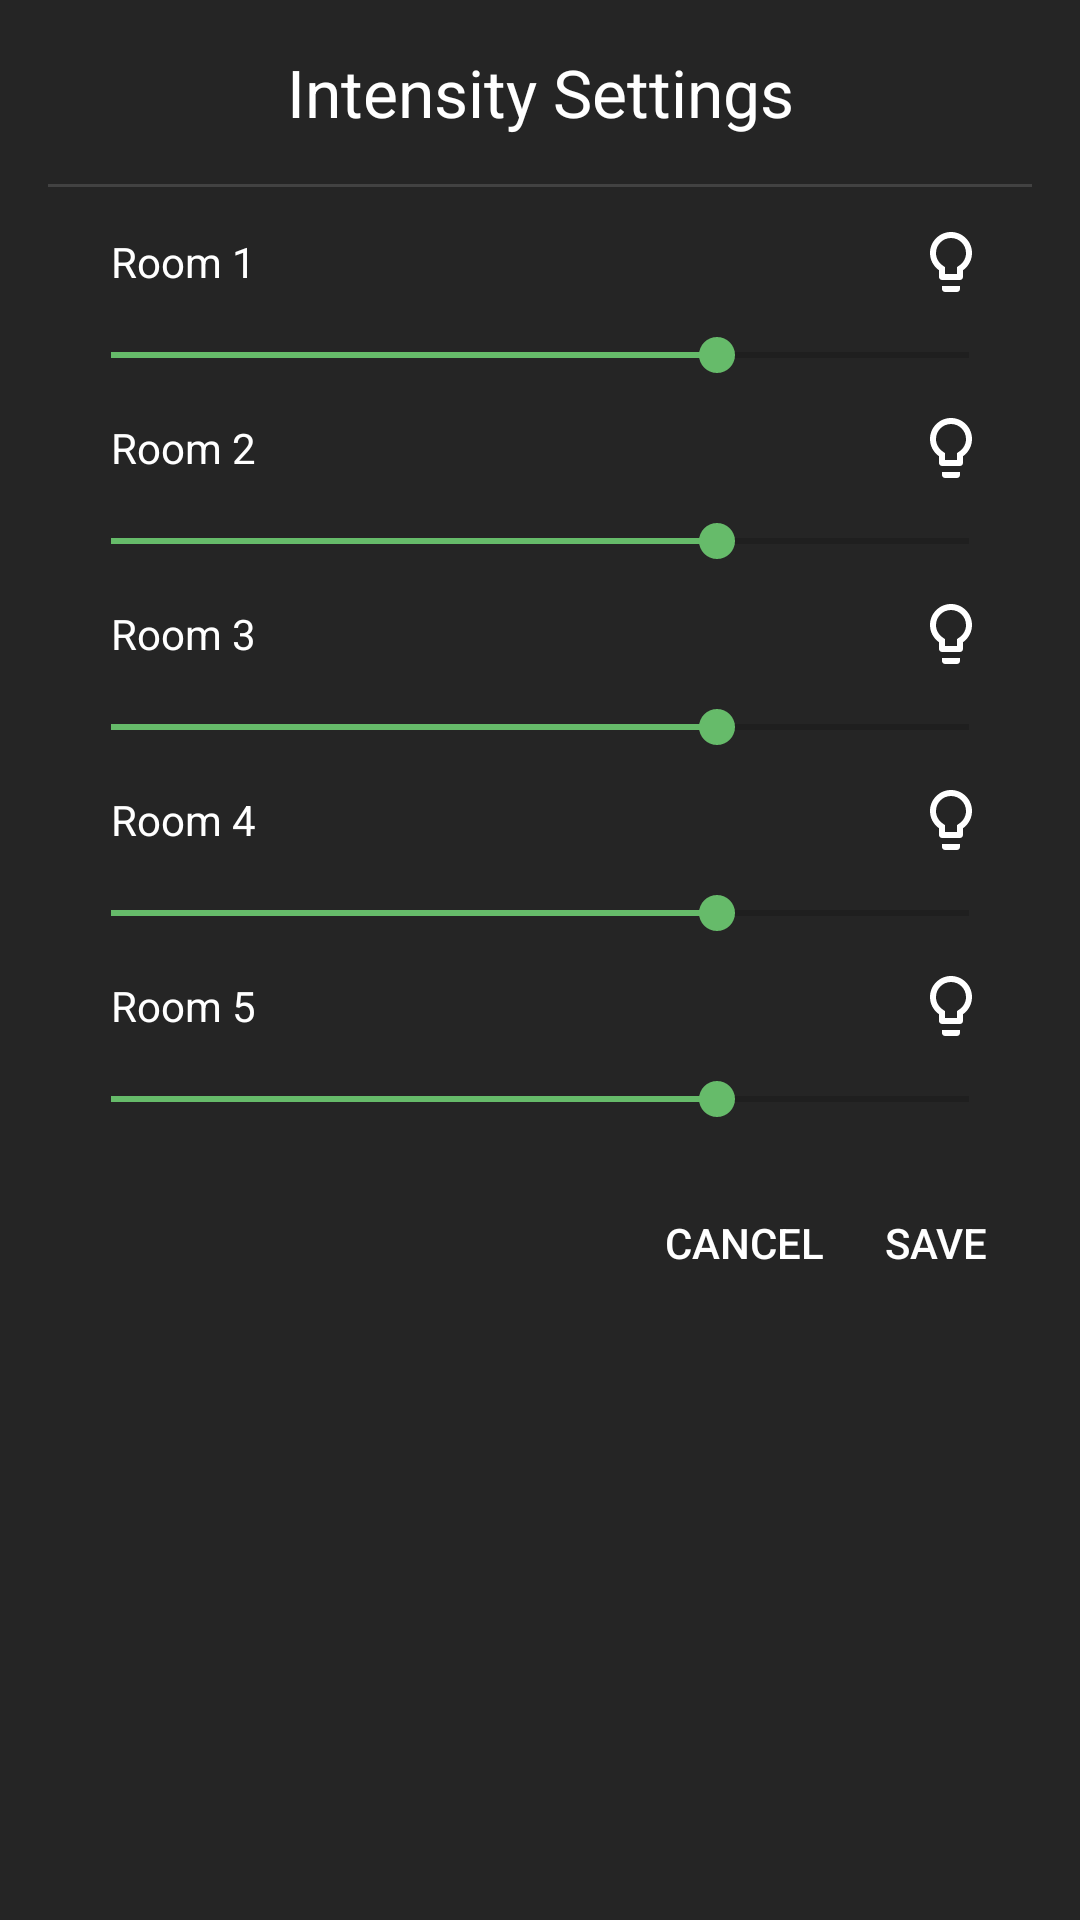

Icon bounding boxes for this 1080x1920 phone screenshot, format (x1, y1, x2, y2):
lightbulb: (930, 232, 972, 292), (930, 418, 972, 478), (930, 604, 972, 664), (930, 790, 972, 850), (930, 976, 972, 1036)
